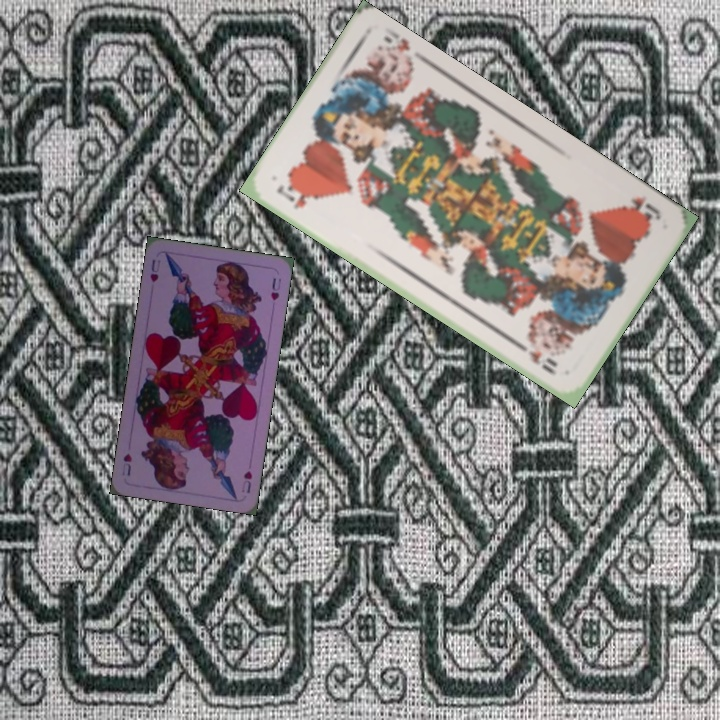HO: (619, 192, 664, 227), (272, 181, 312, 212)
HU: (146, 255, 163, 285), (238, 467, 255, 496)
